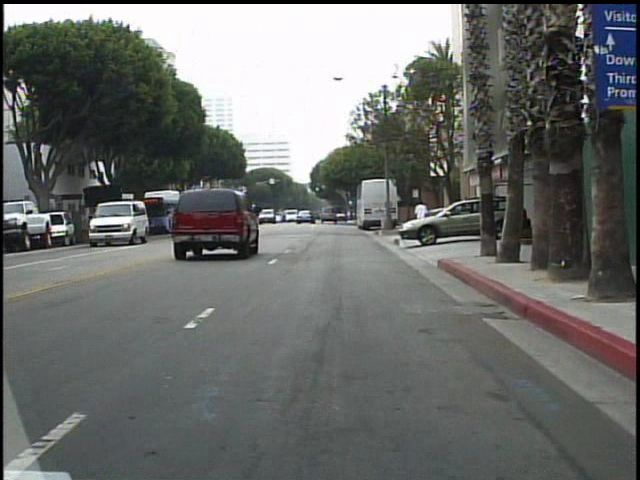person: (411, 195, 431, 238)
